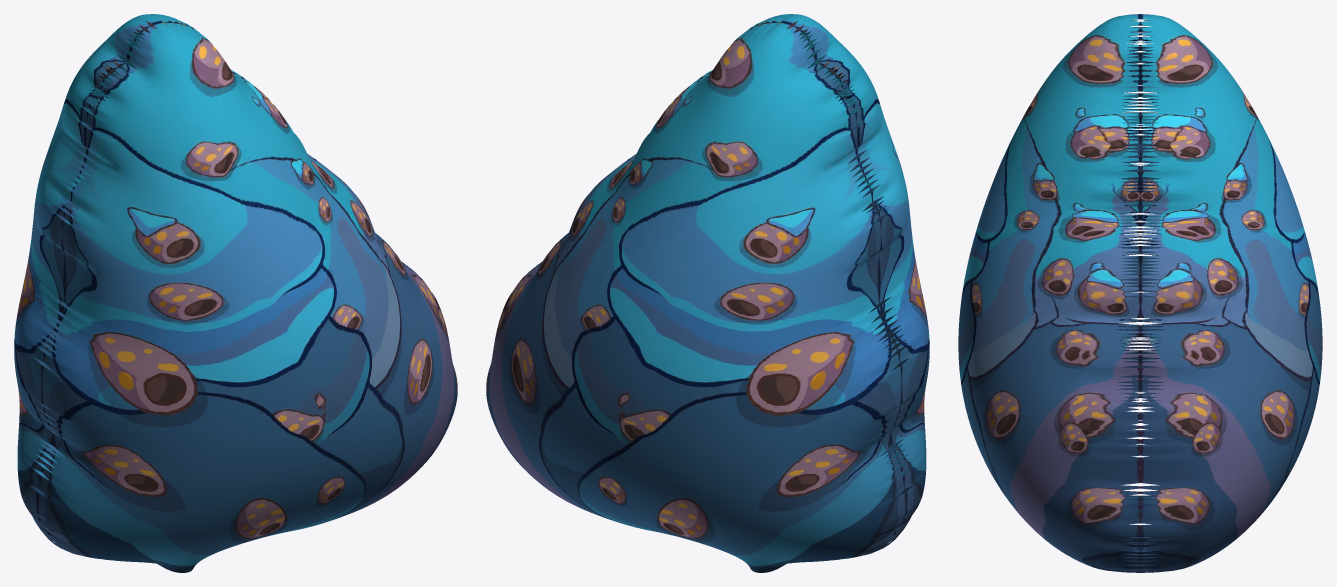
The model's file is blue_cliff.glb.
3 renders of one model, left to right at view 1: azimuth 30°, elevation 25°; view 2: azimuth 150°, elevation 25°; view 3: azimuth 270°, elevation 25°, orthographic. The views are drawn at different scales.
Visible parts, largest first — view 1: blue_cliff; view 2: blue_cliff; view 3: blue_cliff.
Part boxes in pixels (left/top/right/bottom): blue_cliff: left=14, top=14, right=457, bottom=572; blue_cliff: left=486, top=14, right=929, bottom=572; blue_cliff: left=958, top=14, right=1322, bottom=572.
Size of the model in its own units: 0.9864 by 1.21 by 0.836.
Materials: 1 (1 with a texture image).
